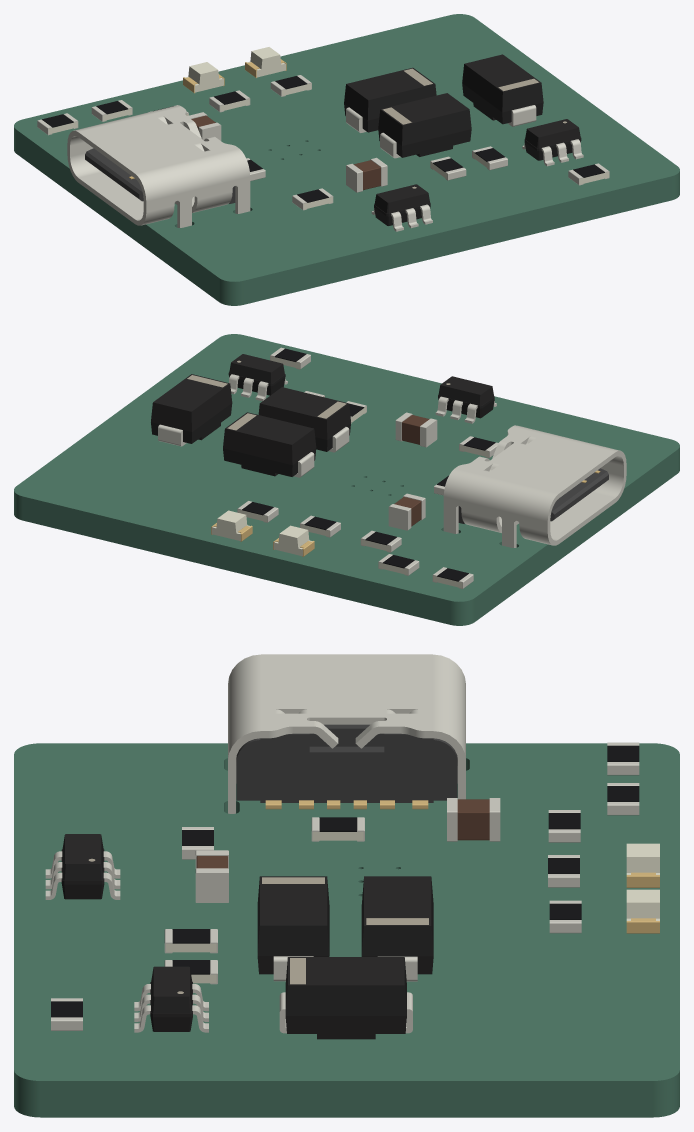
The model's file is project2.glb.
3 renders of one model, top to bottom at view 1: azimuth 30°, elevation 25°; view 2: azimuth 150°, elevation 25°; view 3: azimuth 270°, elevation 25°, orthographic. The views are drawn at different scales.
Visible parts, largest first — view 1: =>[0:1:1:14], =>[0:1:1:13], =>[0:1:1:5] (×3), =>[0:1:1:3] (×8), =>[0:1:1:9] (×2), =>[0:1:1:11] (×2), =>[0:1:1:7] (×2); view 2: =>[0:1:1:14], =>[0:1:1:13], =>[0:1:1:5] (×3), =>[0:1:1:3] (×7), =>[0:1:1:9] (×2), =>[0:1:1:7] (×2), =>[0:1:1:11] (×2); view 3: =>[0:1:1:14], =>[0:1:1:13], =>[0:1:1:5] (×3), =>[0:1:1:3] (×10), =>[0:1:1:9] (×2), =>[0:1:1:7] (×2), =>[0:1:1:11] (×2).
Boxes of the visible parts, bbox=[...] form: =>[0:1:1:14]: bbox=[14, 14, 679, 305]; =>[0:1:1:13]: bbox=[67, 105, 250, 227]; =>[0:1:1:5] (×3): bbox=[344, 54, 543, 158]; =>[0:1:1:3] (×8): bbox=[37, 75, 609, 210]; =>[0:1:1:9] (×2): bbox=[371, 119, 583, 231]; =>[0:1:1:11] (×2): bbox=[183, 47, 286, 93]; =>[0:1:1:7] (×2): bbox=[187, 112, 387, 192]; =>[0:1:1:14]: bbox=[14, 334, 679, 625]; =>[0:1:1:13]: bbox=[443, 425, 626, 547]; =>[0:1:1:5] (×3): bbox=[151, 374, 351, 477]; =>[0:1:1:3] (×7): bbox=[237, 347, 498, 588]; =>[0:1:1:9] (×2): bbox=[228, 354, 496, 423]; =>[0:1:1:7] (×2): bbox=[388, 412, 437, 530]; =>[0:1:1:11] (×2): bbox=[211, 510, 314, 556]; =>[0:1:1:14]: bbox=[14, 743, 679, 1117]; =>[0:1:1:13]: bbox=[228, 654, 465, 813]; =>[0:1:1:5] (×3): bbox=[257, 876, 433, 1039]; =>[0:1:1:3] (×10): bbox=[51, 742, 639, 1030]; =>[0:1:1:9] (×2): bbox=[45, 834, 208, 1032]; =>[0:1:1:7] (×2): bbox=[195, 798, 500, 902]; =>[0:1:1:11] (×2): bbox=[626, 843, 659, 933].
Bounding box in the file's own units: 0.0307 × 0.00485 × 0.025.
